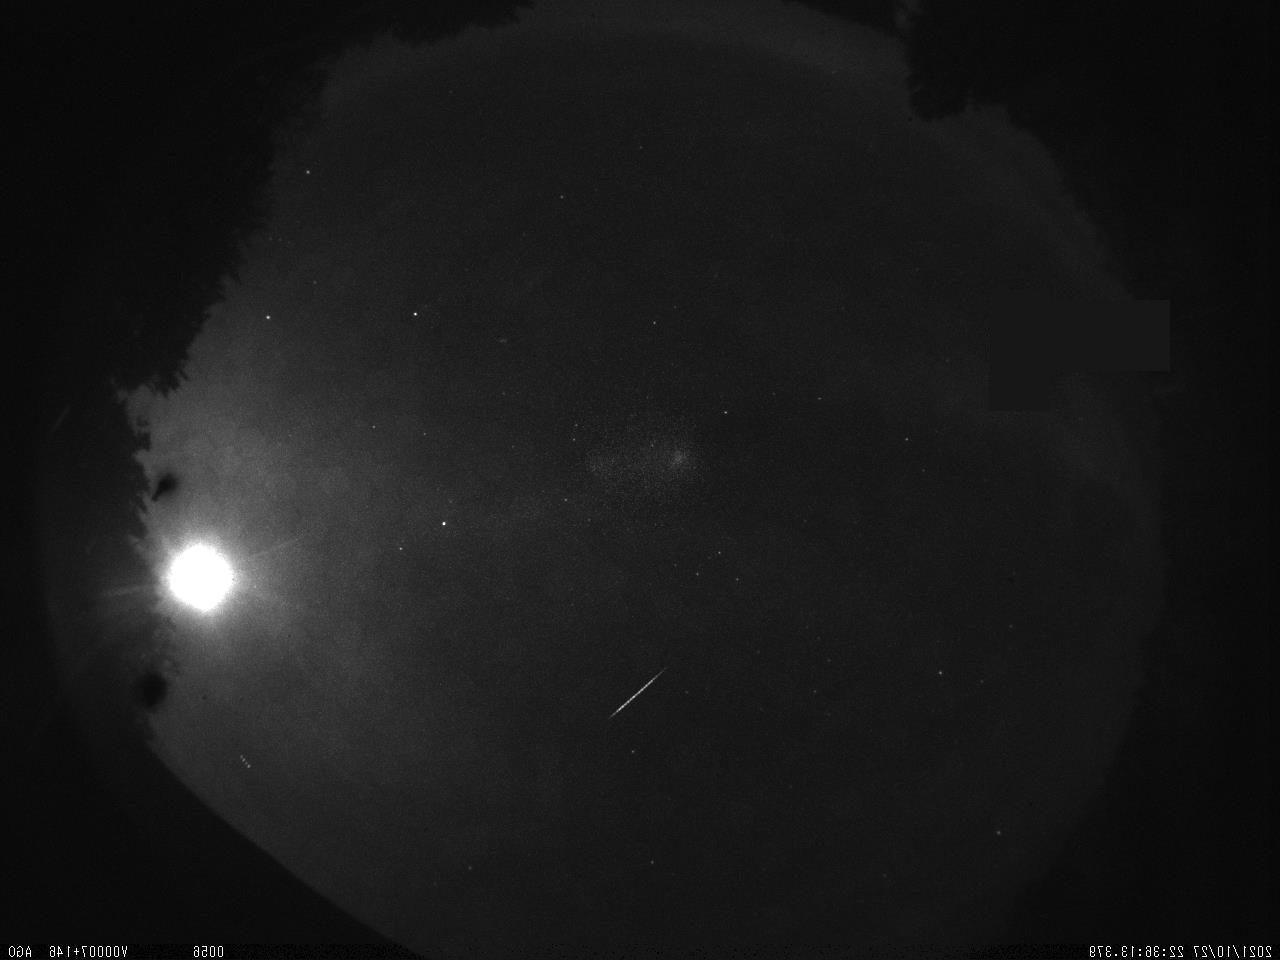meteor: (568, 642, 714, 745)
